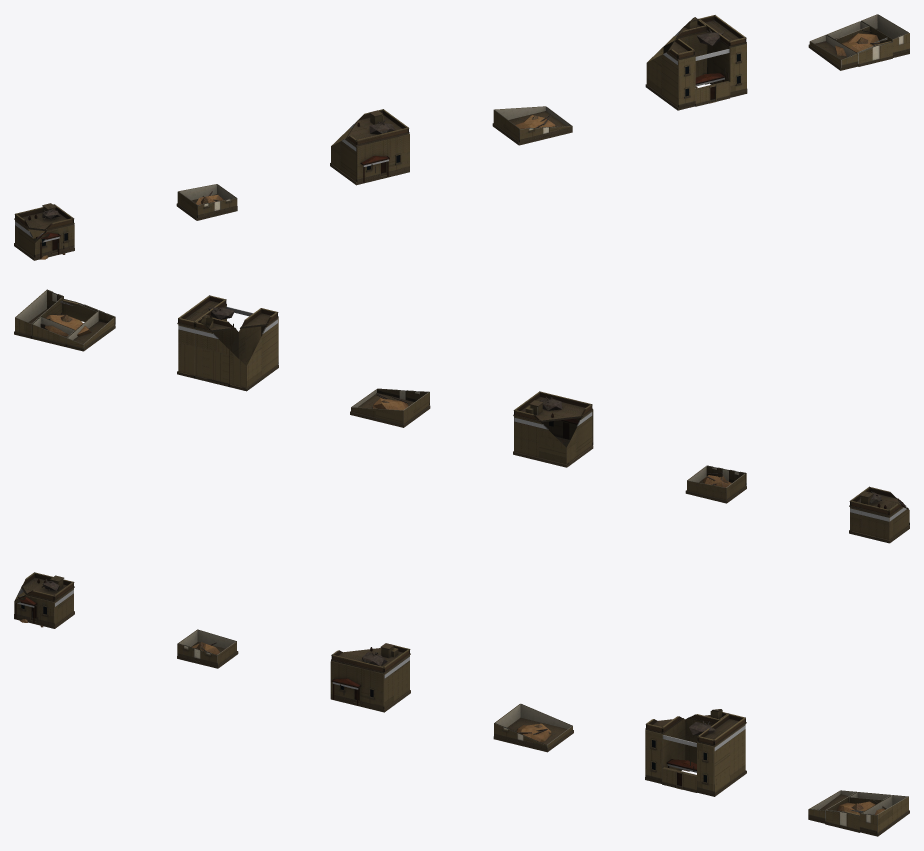
The model's file is classical-steppe-houses-damage.glb.
3 views of the same model, one above another, from view 1: azimuth 30°, elevation 25°; view 2: azimuth 150°, elevation 25°; view 3: azimuth 330°, elevation 25° (orthographic).
Parts seen in each view (by area): view 1: LOD0.004, LOD0.002, LOD0.005, LOD0, LOD0.003, LOD0.001; view 2: LOD0.004, LOD0.002, LOD0.005, LOD0, LOD0.003, LOD0.001; view 3: LOD0.004, LOD0.002, LOD0.005, LOD0, LOD0.003, LOD0.001.
Part boxes in pixels (x1=…): LOD0.004: x1=645, y1=15, x2=747, y2=110; LOD0.002: x1=330, y1=109, x2=409, y2=185; LOD0.005: x1=808, y1=14, x2=909, y2=70; LOD0: x1=14, y1=203, x2=74, y2=260; LOD0.003: x1=492, y1=106, x2=572, y2=145; LOD0.001: x1=176, y1=184, x2=237, y2=220; LOD0.004: x1=177, y1=295, x2=278, y2=391; LOD0.002: x1=513, y1=391, x2=593, y2=467; LOD0.005: x1=14, y1=289, x2=115, y2=351; LOD0: x1=849, y1=486, x2=909, y2=543; LOD0.003: x1=350, y1=388, x2=430, y2=427; LOD0.001: x1=685, y1=465, x2=746, y2=503; LOD0.004: x1=645, y1=709, x2=746, y2=796; LOD0.002: x1=330, y1=643, x2=410, y2=712; LOD0.005: x1=808, y1=790, x2=909, y2=836; LOD0: x1=14, y1=572, x2=74, y2=628; LOD0.003: x1=493, y1=703, x2=573, y2=752; LOD0.001: x1=177, y1=629, x2=238, y2=668.
Size of what is drawn, in the model's own units: 16.02 by 1.08 by 1.05.
2 materials, 2 textured.
